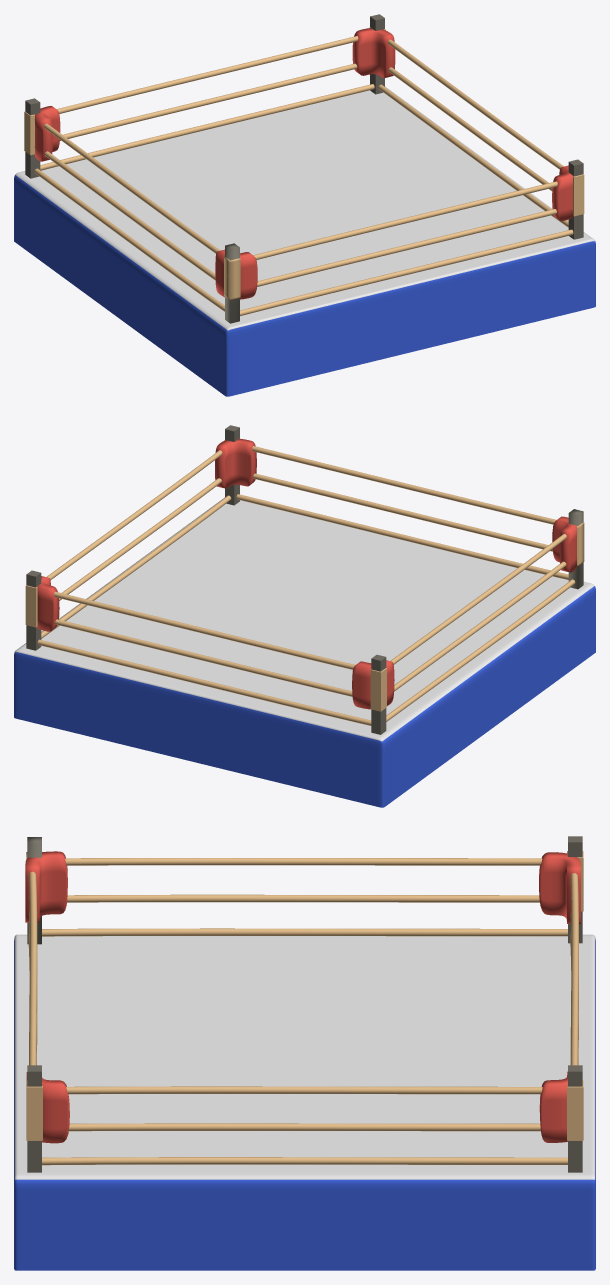
The model's file is ring.fbx.
3 renders of one model, top to bottom at view 1: azimuth 30°, elevation 25°; view 2: azimuth 150°, elevation 25°; view 3: azimuth 270°, elevation 25°, orthographic. The views are drawn at different scales.
Visible parts, largest first — view 1: RingPlane, Ring; view 2: RingPlane, Ring; view 3: RingPlane, Ring.
Boxes of the visible parts, <box> form: RingPlane: <box>14,86,595,396</box>; Ring: <box>24,14,584,323</box>; RingPlane: <box>14,497,595,807</box>; Ring: <box>25,425,584,734</box>; RingPlane: <box>14,934,595,1270</box>; Ring: <box>25,836,583,1172</box>.
Bounding box in the file's own units: 2735 × 1003 × 2735.
